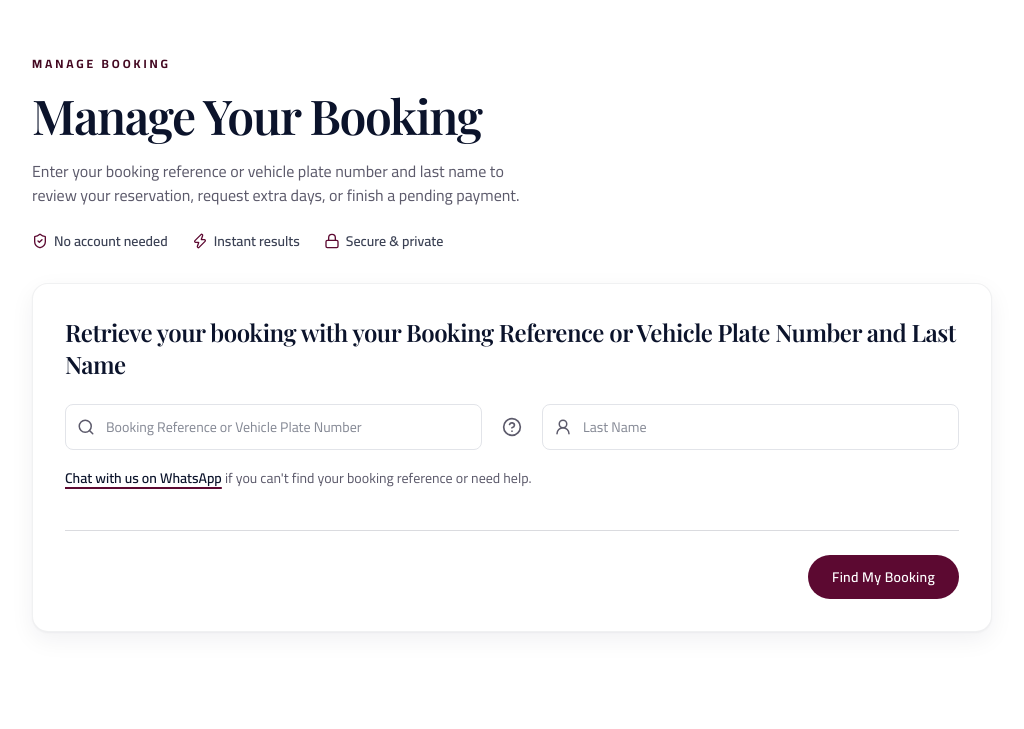
Test case: ManageBookingPage › Continue to Payment for a pending_payment booking (checkout resume) › shows a Continue to Payment action for a pending_payment booking
In the field with placeholder "Booking Reference or Vehicle Plate Number": (274, 427) [65,404,482,450], type "BLS-E16F5DC3"
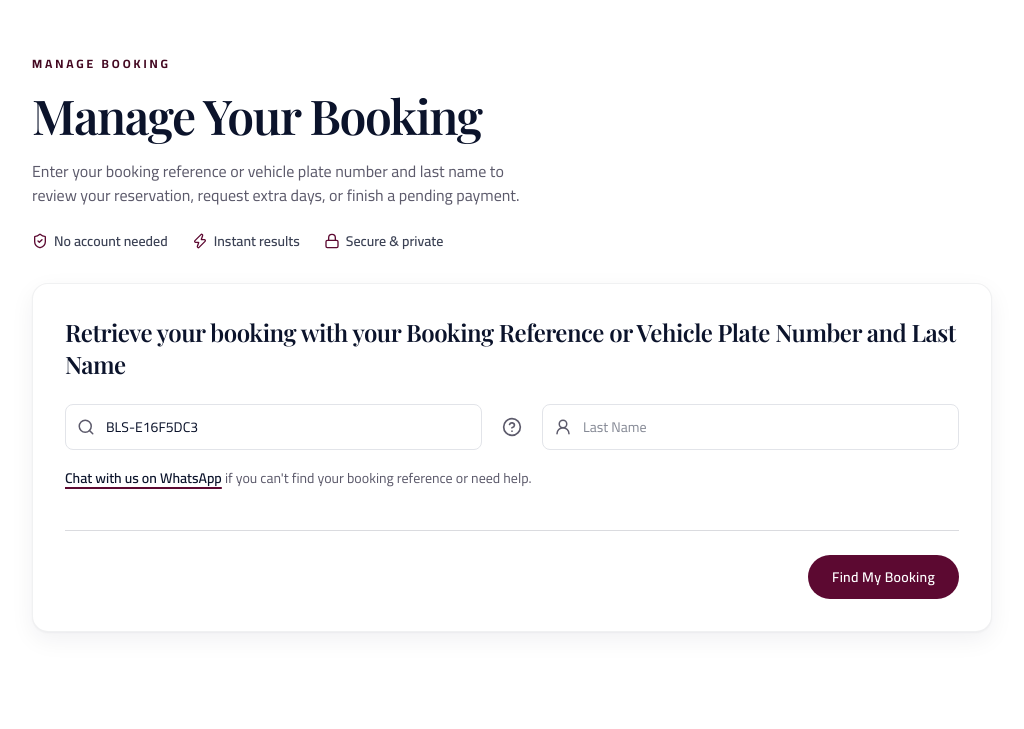
In the field with placeholder "Last Name": (750, 427) [542,404,959,450], type "Abbas"
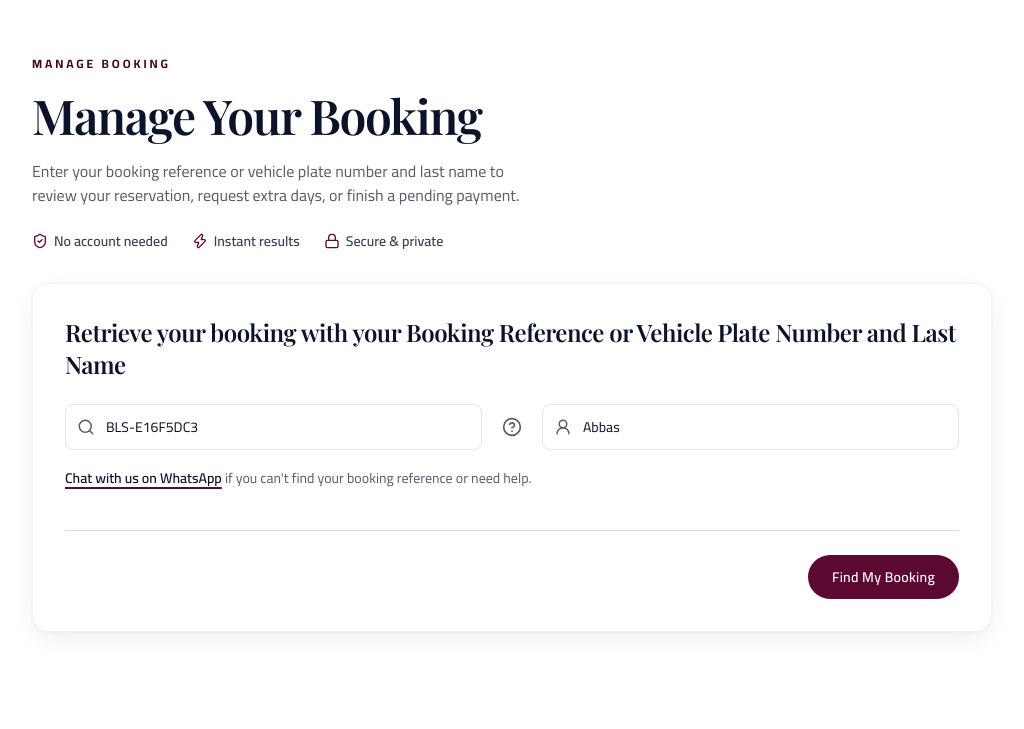
Click the button "Find My Booking": (884, 577) [808,555,959,599]
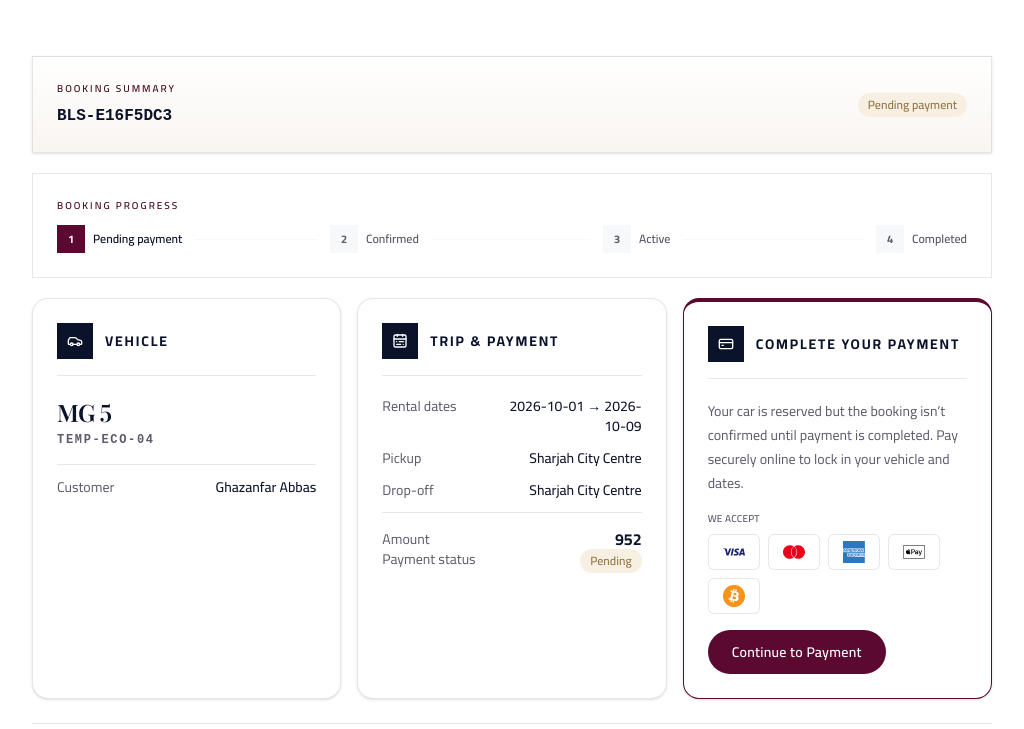
Result: the text "BLS-E16F5DC3" is shown at [57,104,176,128]
Result: the button "Continue to Payment" is shown at [708,630,886,674]
